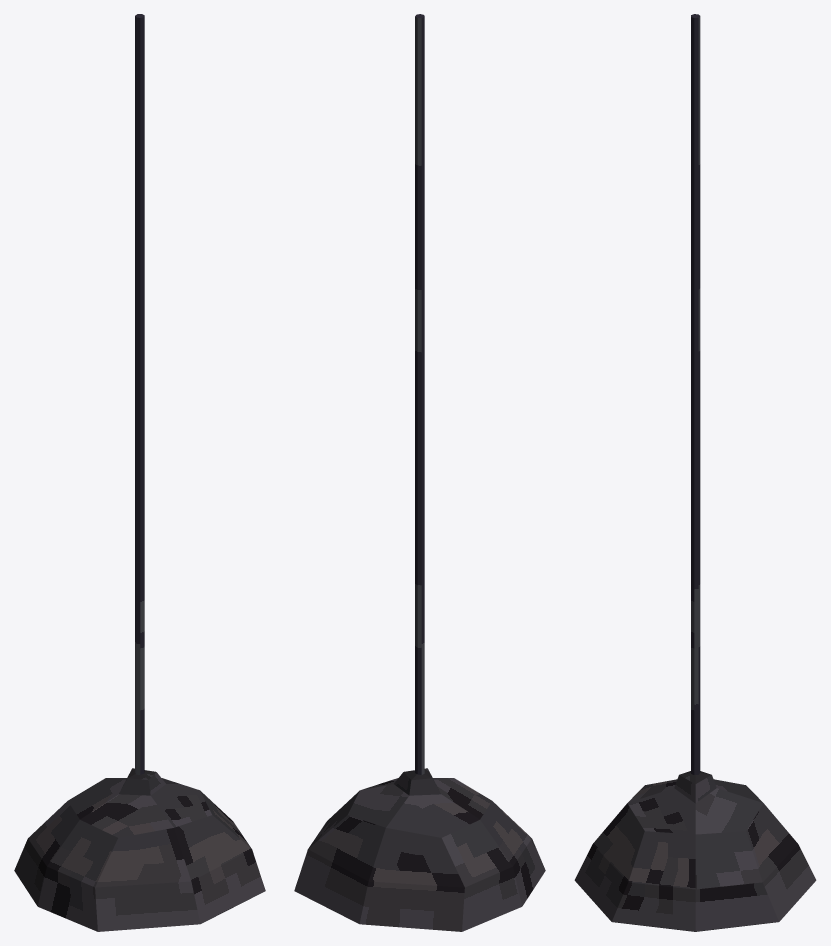
The model's file is Light_1.fbx.
3 views of the same model, side by side, from view 1: azimuth 30°, elevation 25°; view 2: azimuth 150°, elevation 25°; view 3: azimuth 270°, elevation 25° (orthographic).
Parts seen in each view (by area): view 1: 1; view 2: 1; view 3: 1.
Part boxes in pixels (left/top/right/bottom): 1: left=14, top=14, right=265, bottom=931; 1: left=294, top=14, right=545, bottom=931; 1: left=574, top=14, right=816, bottom=931.
Size of the model in its own units: 185 by 748 by 189.
Materials: 1 (1 with a texture image).
